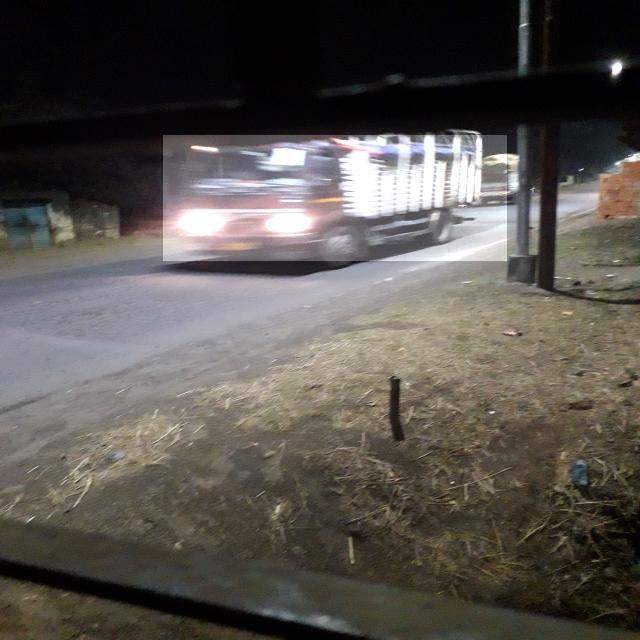Truck: (163, 135, 507, 261)
